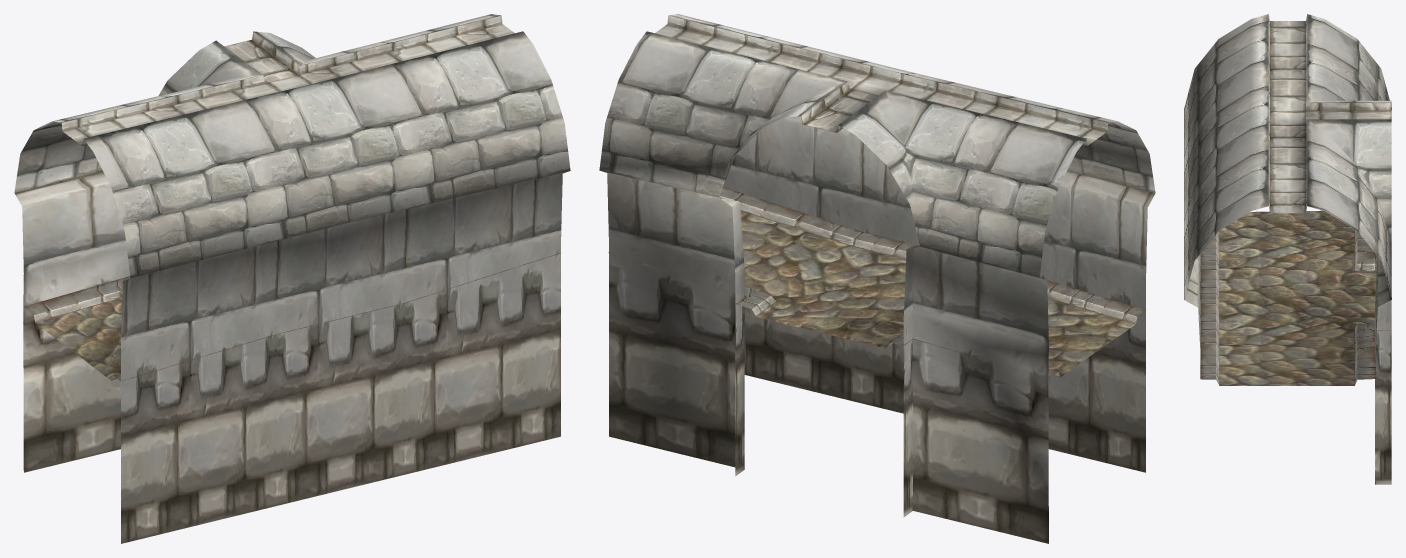
File: stormwind_023.fbx
3 views of the same model, side by side, from view 1: azimuth 30°, elevation 25°; view 2: azimuth 150°, elevation 25°; view 3: azimuth 270°, elevation 25° (orthographic). The views are drawn at different scales.
Parts seen in each view (by area): view 1: stormwind_023_11, stormwind_023_4, stormwind_023_5, stormwind_023_46, stormwind_023_12; view 2: stormwind_023_11, stormwind_023_4, stormwind_023_46, stormwind_023_5, stormwind_023_12; view 3: stormwind_023_4, stormwind_023_46, stormwind_023_5, stormwind_023_12, stormwind_023_11.
Boxes of the visible parts, box(x1,y1,x2,y2) form: stormwind_023_11: box(14, 170, 569, 543); stormwind_023_4: box(14, 14, 570, 278); stormwind_023_5: box(61, 15, 514, 145); stormwind_023_46: box(35, 298, 122, 380); stormwind_023_12: box(24, 253, 560, 381); stormwind_023_11: box(601, 116, 1155, 543); stormwind_023_4: box(599, 14, 1155, 277); stormwind_023_46: box(741, 211, 1135, 377); stormwind_023_5: box(655, 15, 1108, 145); stormwind_023_12: box(608, 187, 1145, 378); stormwind_023_4: box(1184, 14, 1391, 299); stormwind_023_46: box(1219, 210, 1376, 385); stormwind_023_5: box(1268, 14, 1391, 213); stormwind_023_12: box(1200, 230, 1391, 385); stormwind_023_11: box(1184, 253, 1391, 484).
Bounding box in the file's own units: 22.04 × 18.07 × 10.07.
